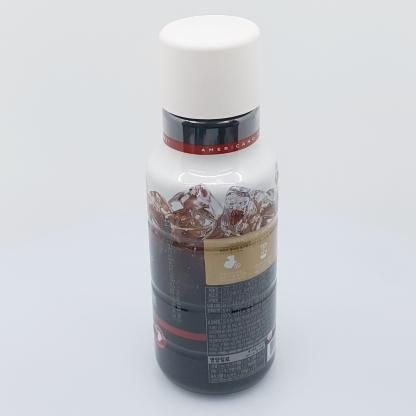--------------1-1L: (145, 14, 279, 397)
